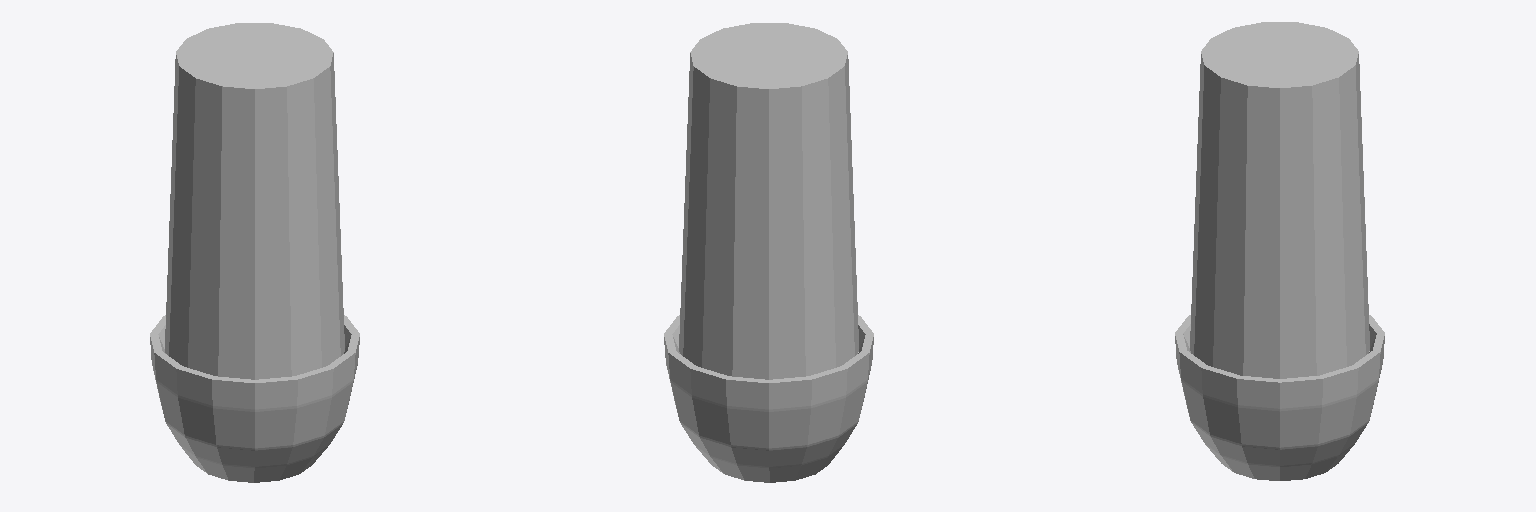
Rendered from seaweedwet.obj.
The picture shows the model from 3 angles: view 1: azimuth 30°, elevation 25°; view 2: azimuth 150°, elevation 25°; view 3: azimuth 270°, elevation 25°; orthographic projection.
Visible parts, largest first — view 1: group5; view 2: group5; view 3: group5.
Part boxes in pixels (x1,y1,x2,y2): group5: (150, 23, 359, 482); group5: (664, 23, 873, 482); group5: (1175, 22, 1384, 480).
Bounding box in the file's own units: 86.62 × 183 × 87.1.